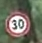limite 30: (4, 10, 31, 37)
